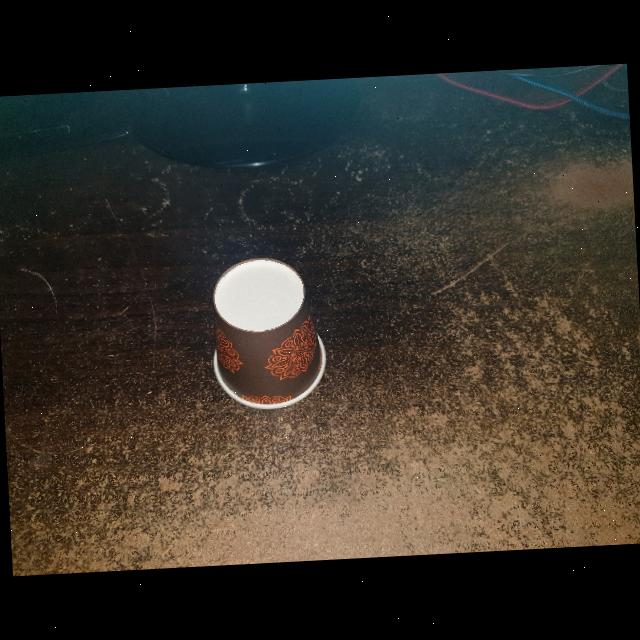trash: (202, 250, 337, 416)
